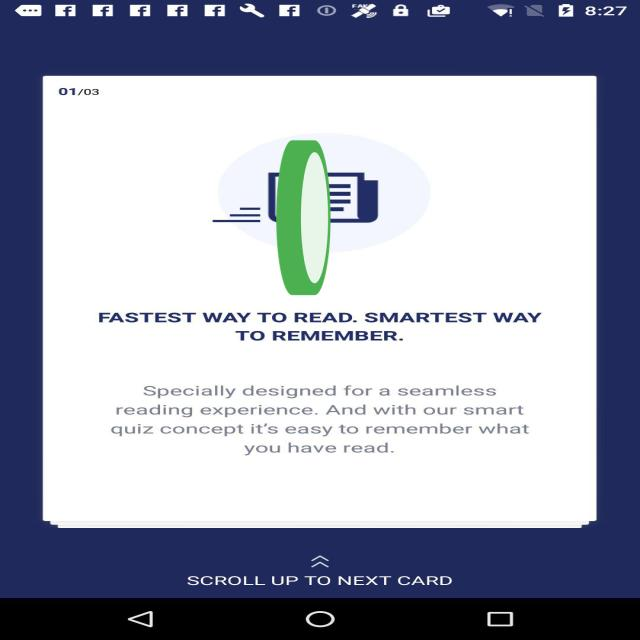social proof: (274, 80, 333, 367)
